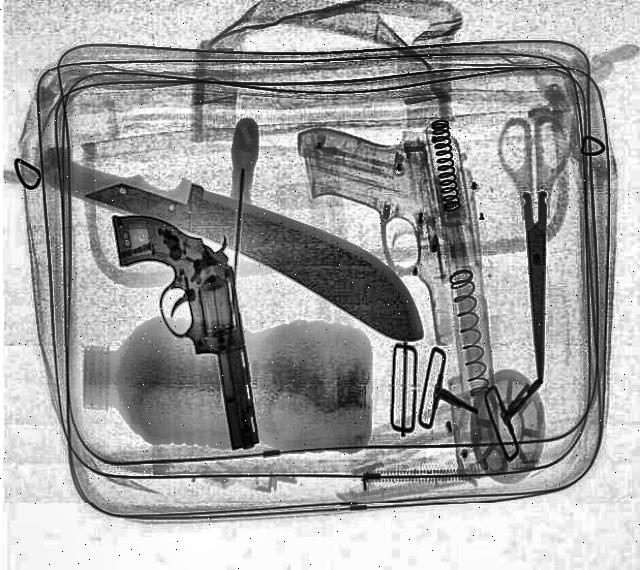Gun: (109, 211, 265, 451)
Knife: (82, 179, 428, 343)
